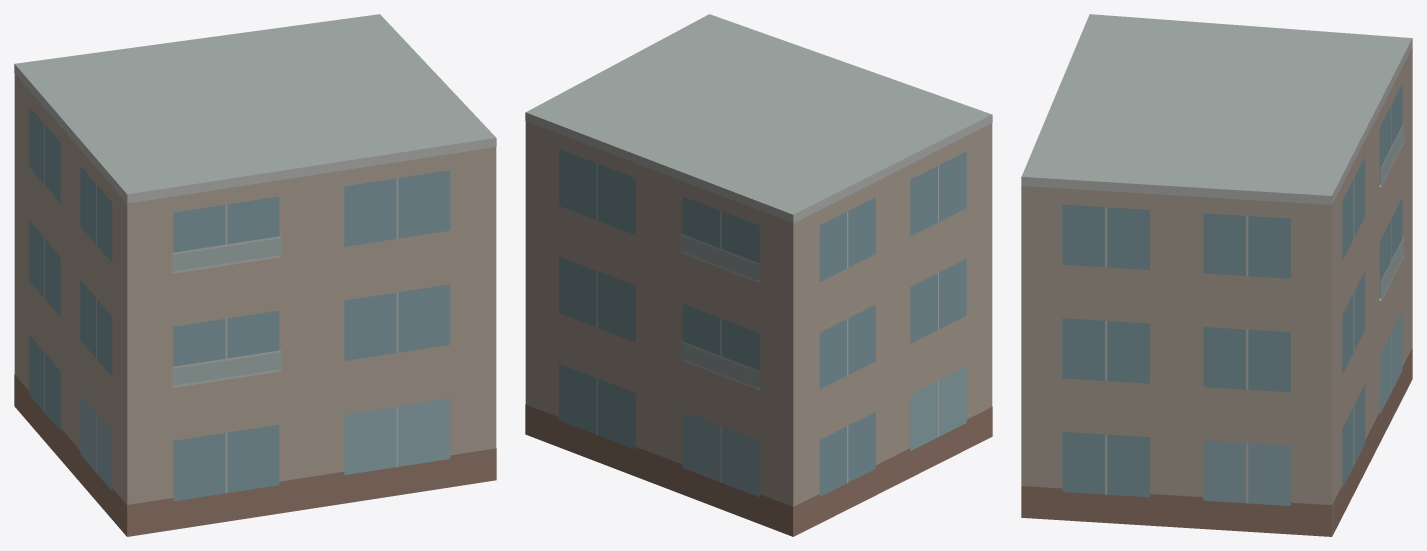
Rendered from survey-upis-32963400.glb.
The picture shows the model from 3 angles, left to right: view 1: azimuth 30°, elevation 25°; view 2: azimuth 150°, elevation 25°; view 3: azimuth 270°, elevation 25°; orthographic projection. The views are drawn at different scales.
Parts seen in each view (by area): view 1: survey-upis-32963400.tmp; view 2: survey-upis-32963400.tmp; view 3: survey-upis-32963400.tmp.
Part boxes in pixels (left/top/right/bottom): survey-upis-32963400.tmp: left=14, top=14, right=496, bottom=536; survey-upis-32963400.tmp: left=525, top=14, right=992, bottom=536; survey-upis-32963400.tmp: left=1021, top=14, right=1412, bottom=536.
Bounding box in the file's own units: 10.48 × 9.15 × 9.52.
